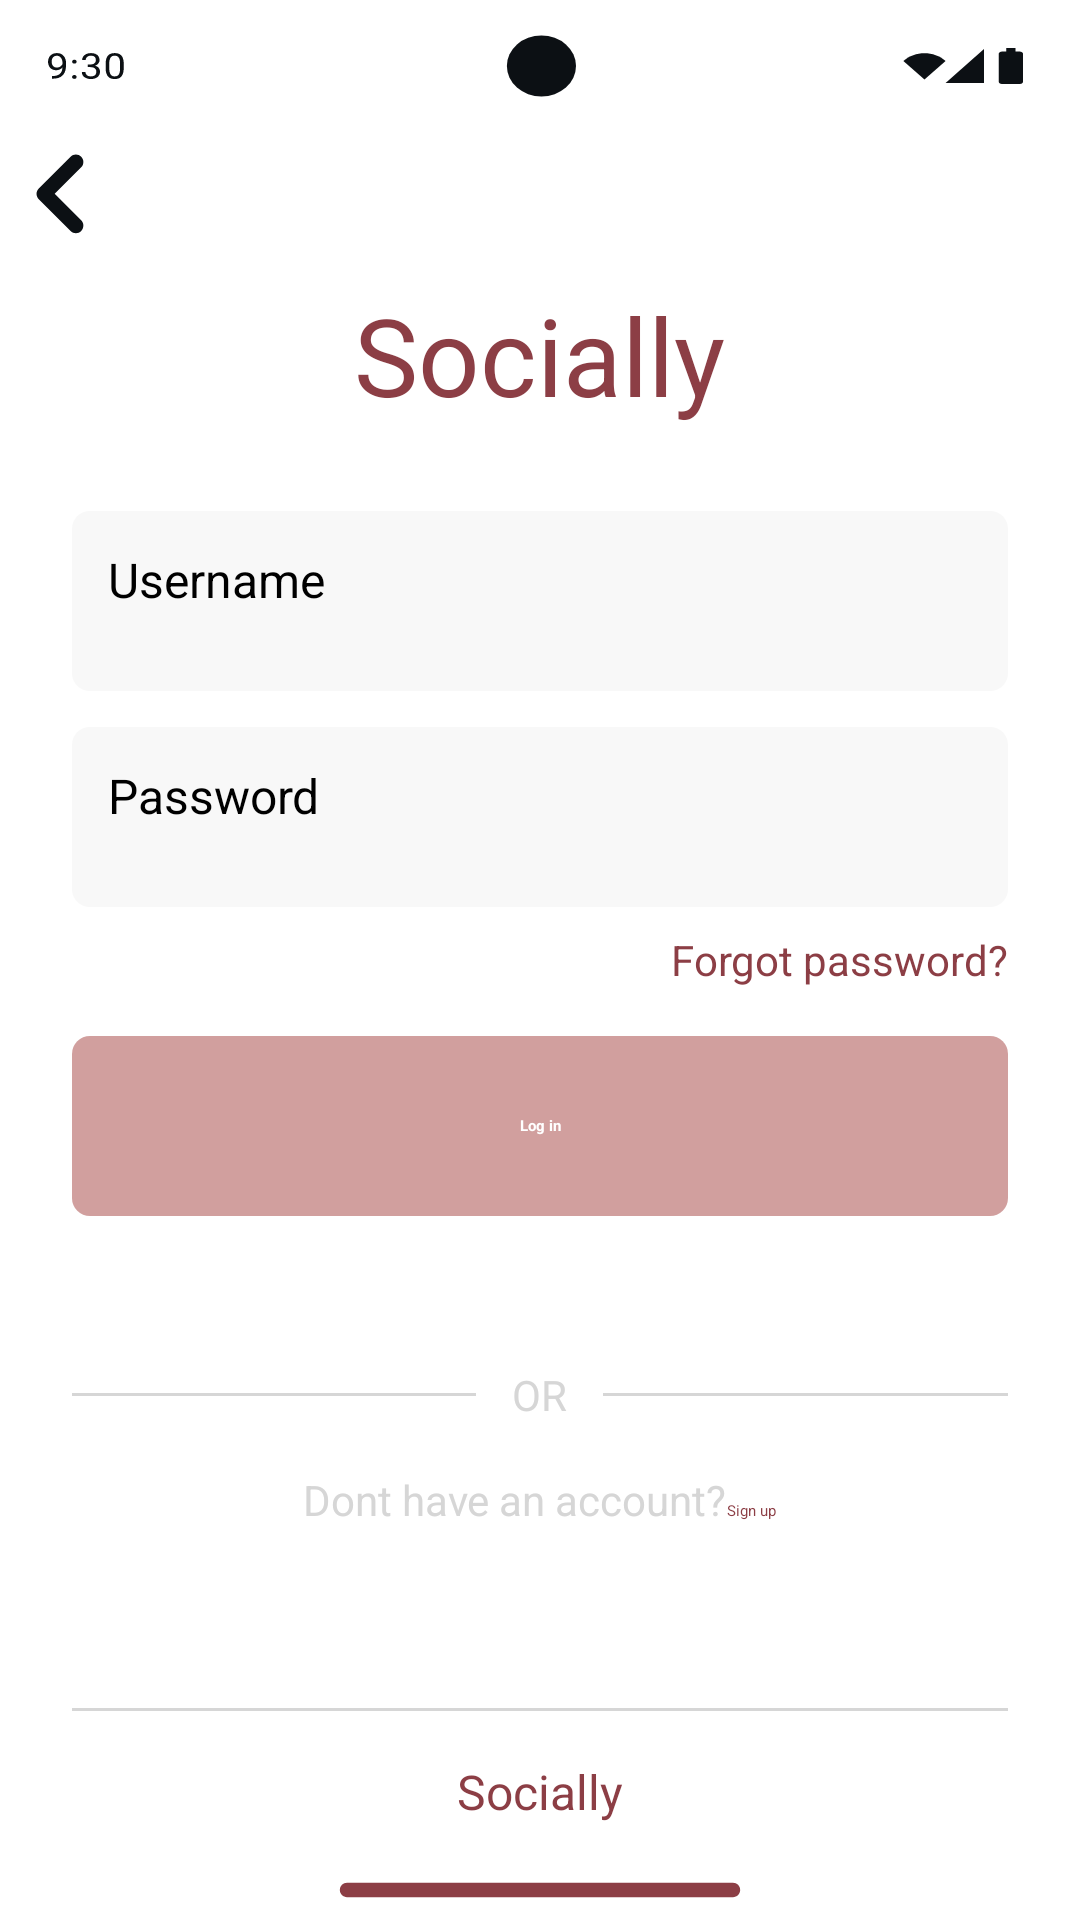

Icons on this 1080w x 1920h Android screen, each with the point to tap as (x,y):
back: (60,194)
